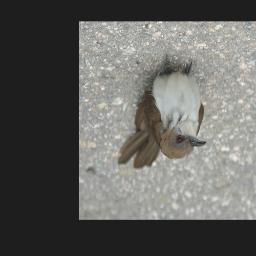Cuckoo: (117, 53, 208, 170)
